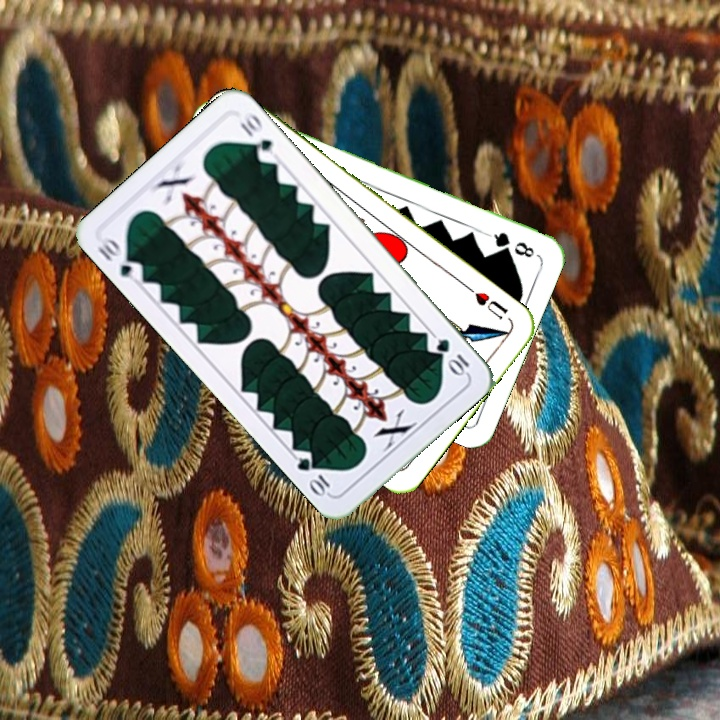G10: (93, 232, 146, 285), (432, 334, 473, 378)
G8: (483, 228, 537, 260)
HU: (471, 288, 511, 322)
